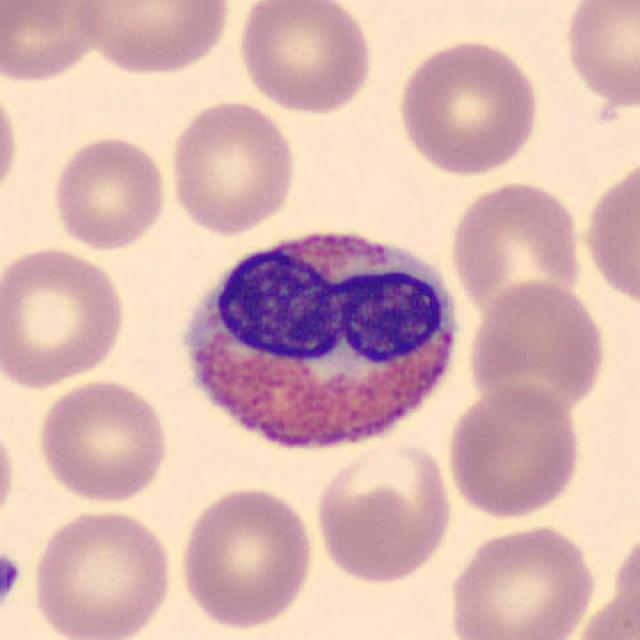Eosinophil: (171, 212, 469, 470)
Platelets: (0, 550, 23, 612)
RBC: (311, 432, 457, 587), (393, 35, 544, 178), (464, 277, 610, 421), (176, 482, 316, 632), (28, 504, 176, 640), (443, 382, 585, 522), (446, 176, 585, 318), (0, 242, 130, 392), (443, 520, 601, 640), (165, 97, 299, 236), (34, 376, 170, 506), (235, 0, 377, 116), (48, 132, 171, 254), (73, 0, 236, 78), (580, 153, 638, 312), (0, 0, 106, 86), (560, 0, 638, 111), (567, 583, 640, 640), (0, 79, 21, 209), (0, 416, 20, 534)
